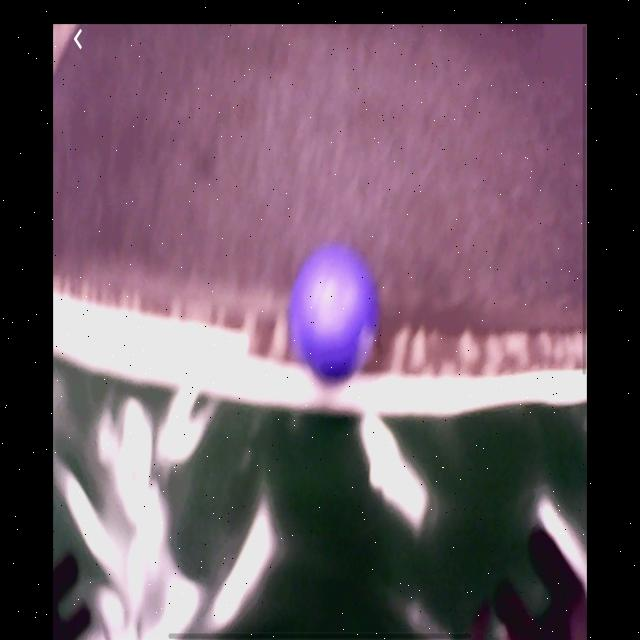ball: (294, 247, 378, 380)
